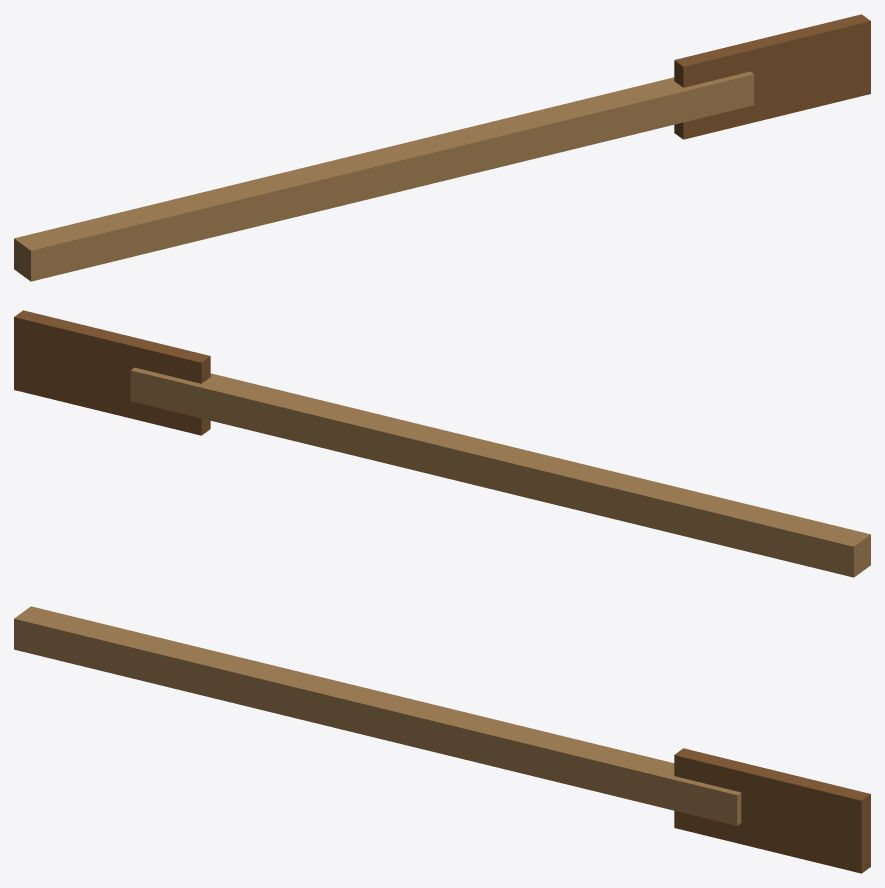
The model's file is ppl_oar.glb.
The picture shows the model from 3 angles, top to bottom: view 1: azimuth 30°, elevation 25°; view 2: azimuth 150°, elevation 25°; view 3: azimuth 330°, elevation 25°; orthographic projection.
Parts seen in each view (by area): view 1: ppl_oar; view 2: ppl_oar; view 3: ppl_oar.
Part boxes in pixels (bbox=[...]): ppl_oar: bbox=[14, 14, 870, 281]; ppl_oar: bbox=[14, 310, 870, 577]; ppl_oar: bbox=[14, 606, 870, 873].
Bounding box in the file's own units: 0.315 × 0.026 × 0.011.
